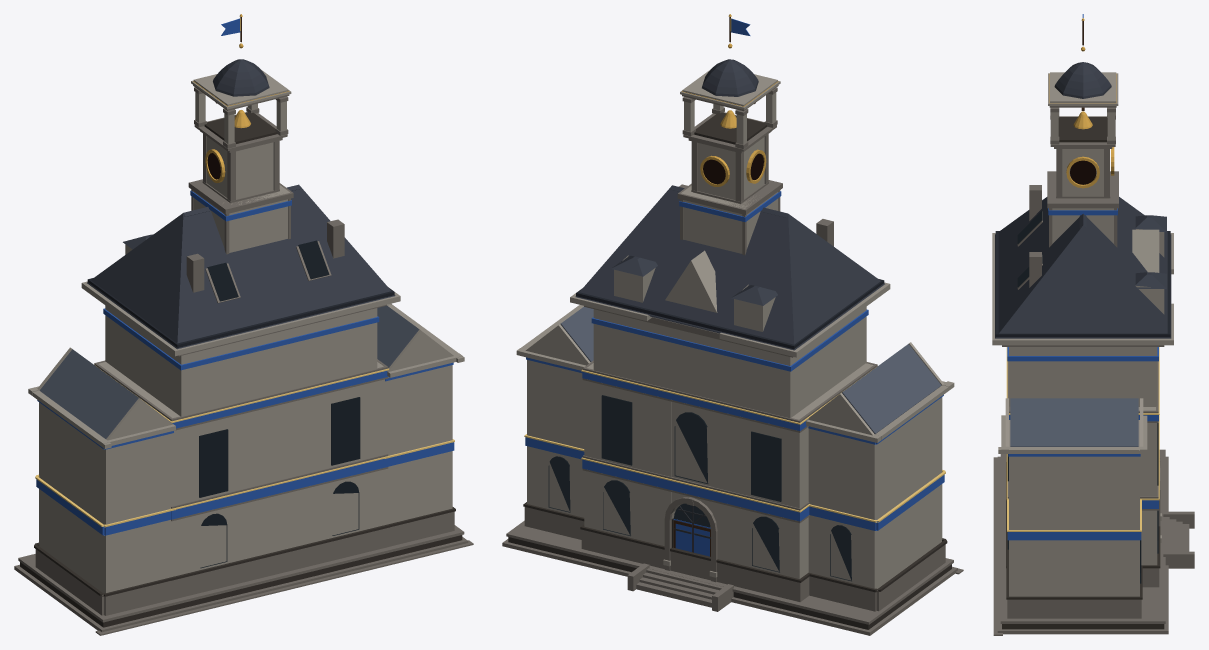
Rendered from 城镇大厅_手游_远.glb.
The picture shows the model from 3 angles, left to right: view 1: azimuth 30°, elevation 25°; view 2: azimuth 150°, elevation 25°; view 3: azimuth 270°, elevation 25°; orthographic projection. The views are drawn at different scales.
Parts seen in each view (by area): view 1: TH-主体, TH-team, TH-自发光, TH-team_trim; view 2: TH-主体, TH-自发光, TH-team, TH-team_trim; view 3: TH-主体, TH-team, TH-自发光, TH-team_trim.
Part boxes in pixels (<box>): TH-主体: <box>14,14,473,635</box>; TH-team: <box>36,18,454,535</box>; TH-自发光: <box>199,153,360,568</box>; TH-team_trim: <box>35,18,454,527</box>; TH-主体: <box>502,14,963,635</box>; TH-自发光: <box>548,153,851,581</box>; TH-team: <box>525,18,944,556</box>; TH-team_trim: <box>524,18,945,522</box>; TH-主体: <box>992,18,1194,635</box>; TH-team: <box>1007,14,1158,540</box>; TH-自发光: <box>1007,160,1158,583</box>; TH-team_trim: <box>1006,347,1159,531</box>.
Bounding box in the file's own units: 18.1 × 25.15 × 8.73.
Materials: 4 (2 with a texture image).
